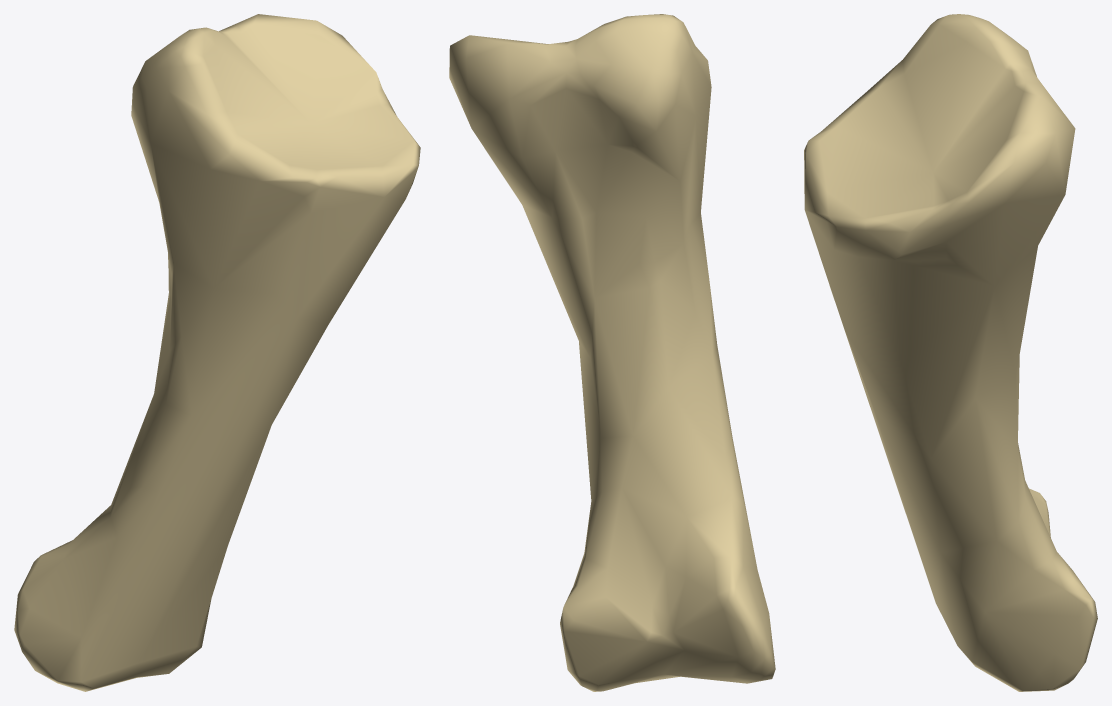
The picture shows the model from 3 angles, left to right: view 1: azimuth 30°, elevation 25°; view 2: azimuth 150°, elevation 25°; view 3: azimuth 270°, elevation 25°; orthographic projection. The views are drawn at different scales.
Parts seen in each view (by area): view 1: 右侧第三趾近节趾骨; view 2: 右侧第三趾近节趾骨; view 3: 右侧第三趾近节趾骨.
Part boxes in pixels (x1,y1,x2,y2): 右侧第三趾近节趾骨: (14,14,420,691); 右侧第三趾近节趾骨: (449,14,775,691); 右侧第三趾近节趾骨: (804,14,1097,691).
Bounding box in the file's own units: 0.0242 × 0.0445 × 0.0176.
